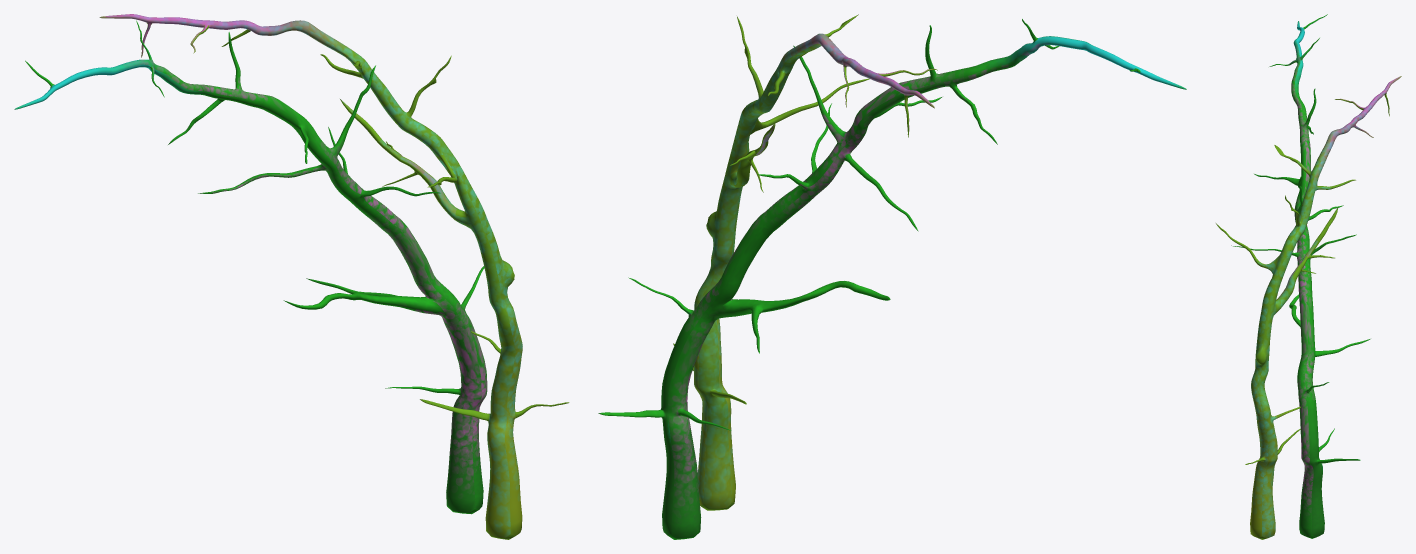
File: Forest_Trees.fbx
3 views of the same model, side by side, from view 1: azimuth 30°, elevation 25°; view 2: azimuth 150°, elevation 25°; view 3: azimuth 270°, elevation 25° (orthographic). The views are drawn at different scales.
Visible parts, largest first — view 1: Forest_tree1, Forest_tree2; view 2: Forest_tree1, Forest_tree2; view 3: Forest_tree2, Forest_tree1.
Part boxes in pixels (left/top/right/bottom): Forest_tree1: left=14, top=20, right=487, bottom=514; Forest_tree2: left=99, top=14, right=569, bottom=539; Forest_tree1: left=598, top=19, right=1186, bottom=539; Forest_tree2: left=673, top=14, right=937, bottom=510; Forest_tree2: left=1216, top=76, right=1401, bottom=539; Forest_tree1: left=1231, top=14, right=1370, bottom=538.
Size of the model in its own units: 167 by 174 by 75.68.
